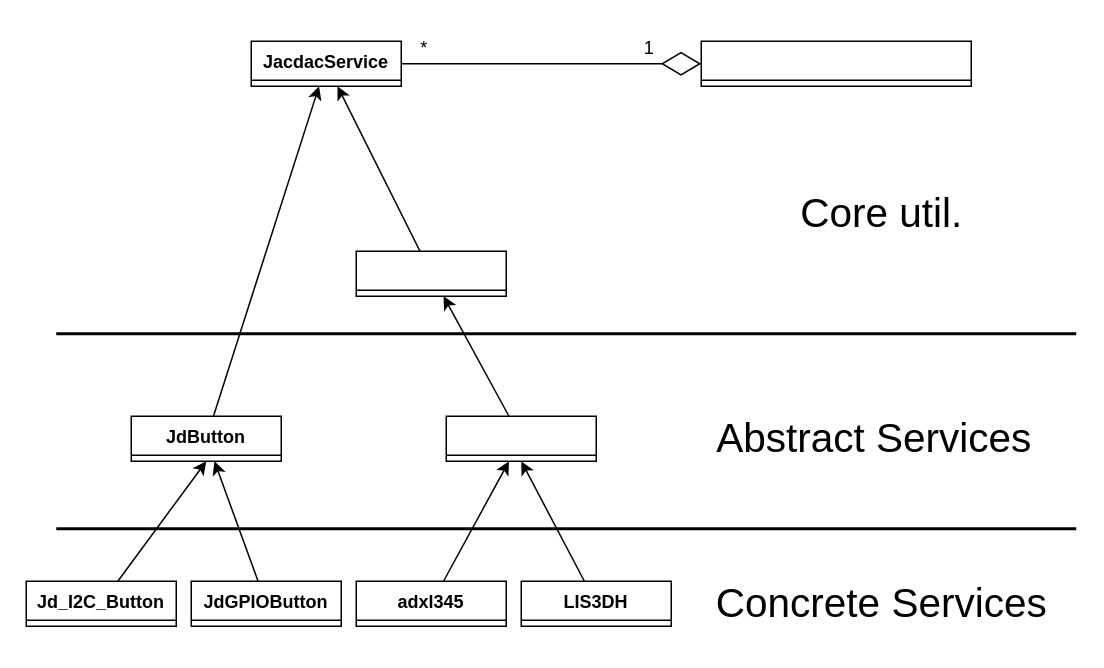
The diagram is 1104 pixels wide and 668 high, and some of its shapes have lost their labels. Each missing label, with the centre of its shape:
"JacdacServiceManager" goes at pixel 835 63.
"JdAccelerometer" goes at pixel 520 438.
"JdSensor" goes at pixel 430 273.
